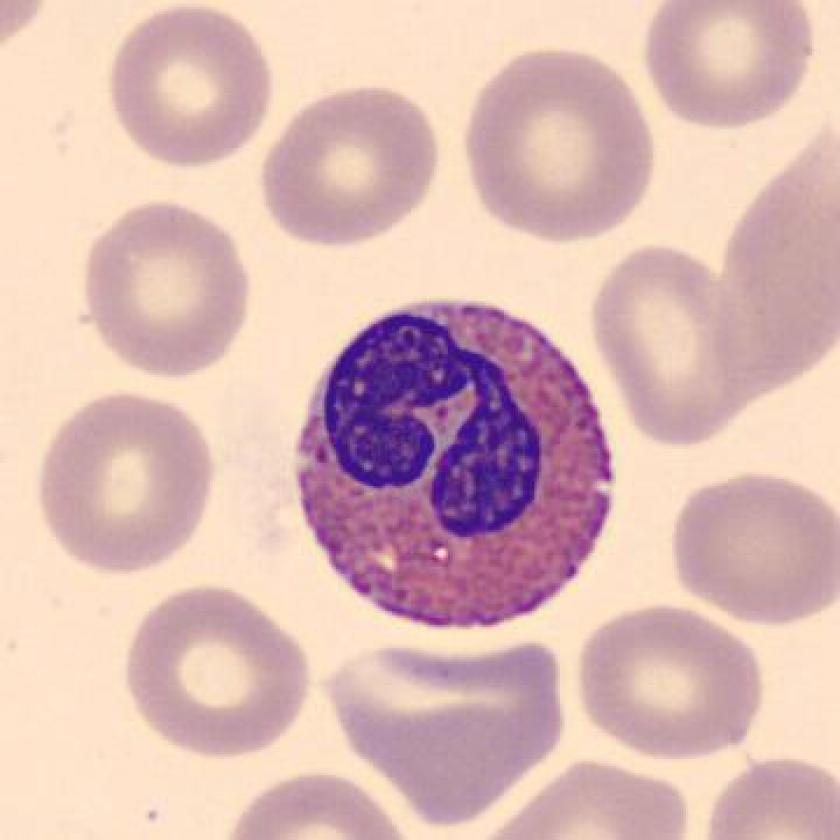eosinophil: (283, 286, 629, 637)
